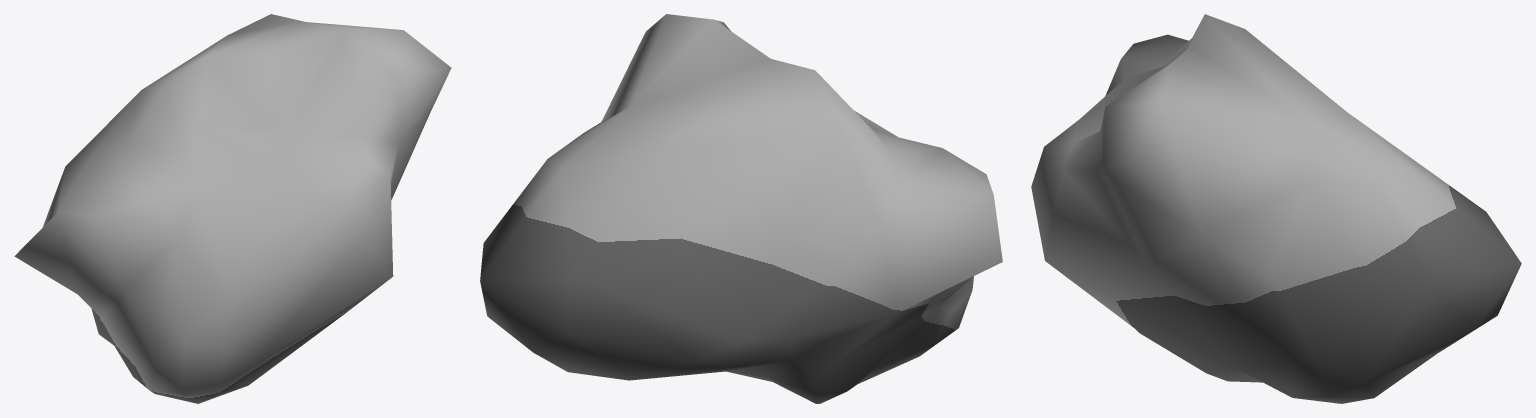
File: ForestStone1.fbx
3 views of the same model, side by side, from view 1: azimuth 30°, elevation 25°; view 2: azimuth 150°, elevation 25°; view 3: azimuth 270°, elevation 25° (orthographic). The views are drawn at different scales.
Parts seen in each view (by area): view 1: Stone.004; view 2: Stone.004; view 3: Stone.004.
Boxes of the visible parts, box(x1,y1,x2,y2) form: Stone.004: box(14, 14, 451, 403); Stone.004: box(480, 14, 1002, 403); Stone.004: box(1031, 14, 1521, 403).
Bounding box in the file's own units: 6.59 × 4.85 × 6.44.
Materials: 1 (1 with a texture image).
